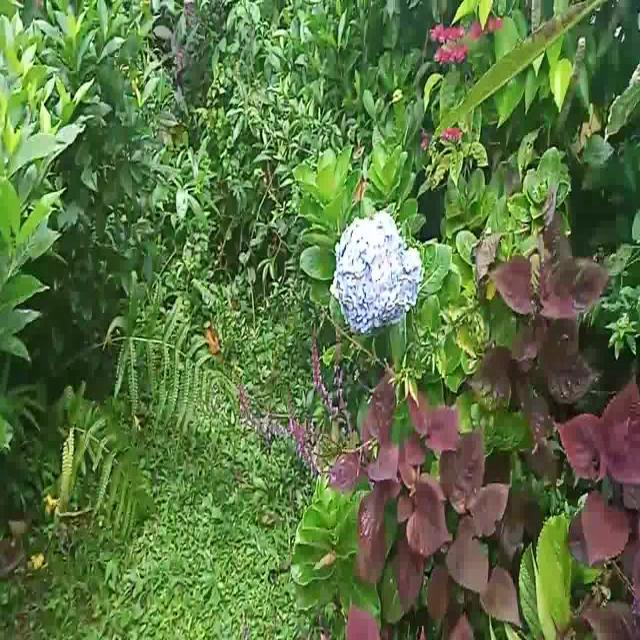Flower: (331, 207, 425, 333)
